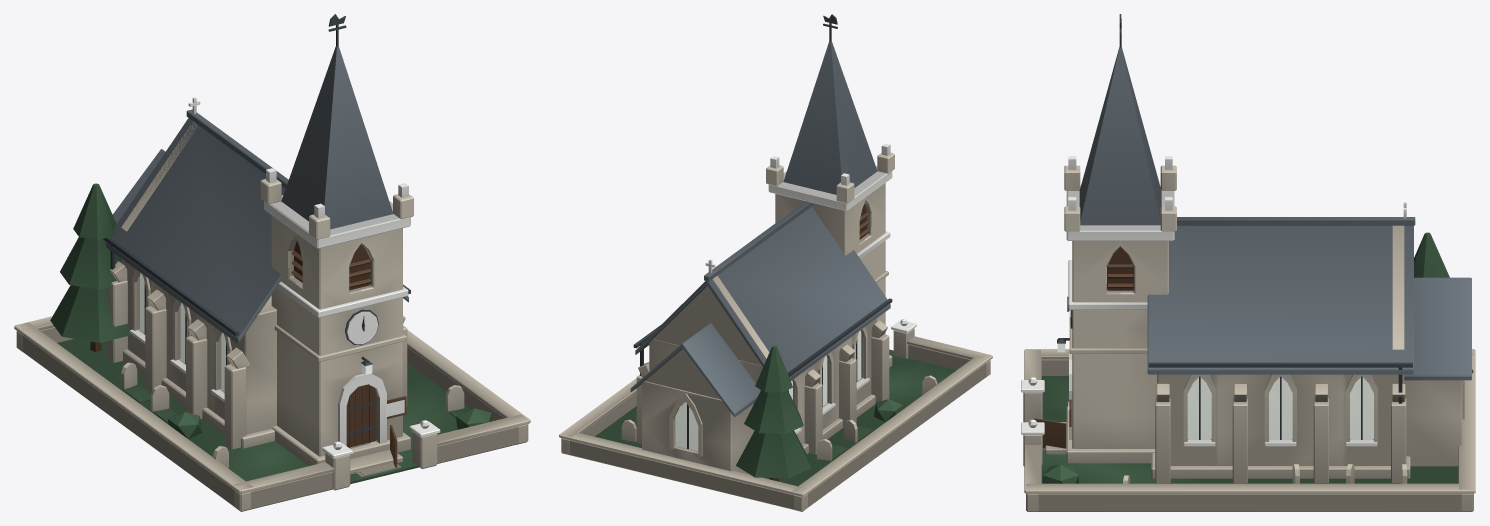
File: village-chapel.glb
3 renders of one model, left to right at view 1: azimuth 30°, elevation 25°; view 2: azimuth 150°, elevation 25°; view 3: azimuth 270°, elevation 25°, orthographic. The views are drawn at different scales.
Visible parts, largest first — view 1: Chapel; view 2: Chapel; view 3: Chapel.
Part boxes in pixels (x1,y1,x2,y2): Chapel: (14,14,530,511); Chapel: (559,14,992,511); Chapel: (1021,14,1475,511).
Bounding box in the file's own units: 8.69 × 12.23 × 11.76.
